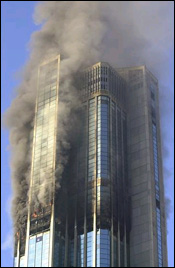smoke: (7, 77, 86, 202), (33, 1, 135, 70)
